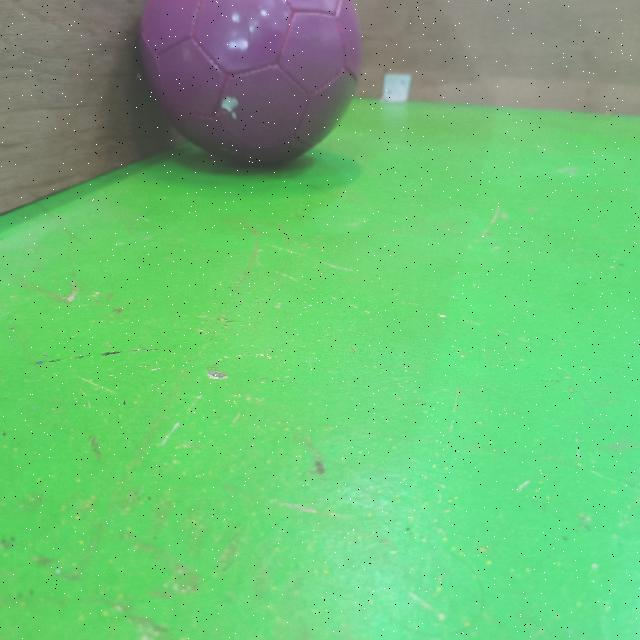P: (133, 0, 369, 174)
